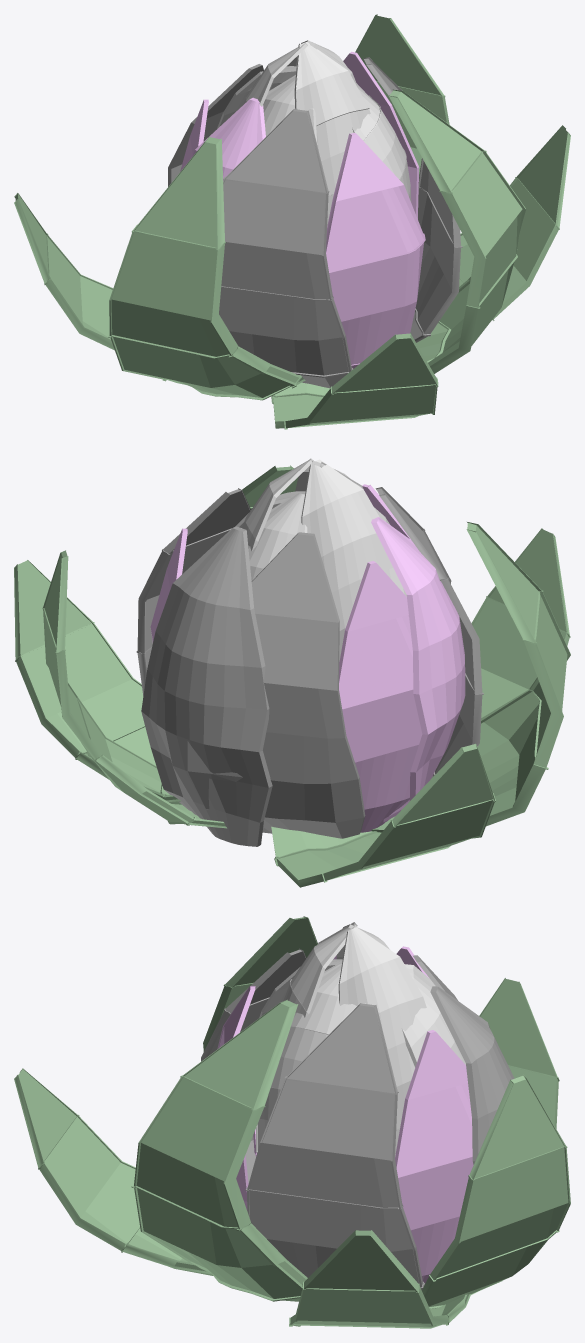
File: Kas_substance.fbx
The picture shows the model from 3 angles, top to bottom: view 1: azimuth 30°, elevation 25°; view 2: azimuth 150°, elevation 25°; view 3: azimuth 270°, elevation 25°; orthographic projection. The views are drawn at different scales.
Parts seen in each view (by area): view 1: pCube2, pCube20, pCube1, pCube15, pCube19, pCube21, pCube16, pCube9, pCube18, pCube17, pCube4 (×2), pCube5 (+5 smaller); view 2: pCube5 (×2), pCube6, pCube4 (×2), pCube20, pCube21, pCube18, pCube11, pCube17, pCube19, pCube16, pCube2, pCube12 (+3 smaller); view 3: pCube16, pCube15, pCube17, pCube4, pCube19, pCube21, pCube10, pCube5, pCube18, pCube14, pCube20, pCube2 (+4 smaller).
Boxes of the visible parts, left/top/right/bottom form: pCube2: left=219, top=109, right=352, bottom=388; pCube20: left=108, top=137, right=305, bottom=400; pCube1: left=326, top=132, right=425, bottom=368; pCube15: left=388, top=89, right=525, bottom=373; pCube19: left=271, top=333, right=438, bottom=429; pCube21: left=459, top=125, right=570, bottom=320; pCube16: left=363, top=57, right=462, bottom=342; pCube9: left=294, top=42, right=370, bottom=227; pCube18: left=14, top=193, right=114, bottom=350; pCube17: left=355, top=14, right=449, bottom=176; pCube4 (×2): left=180, top=51, right=419, bottom=219; pCube5: left=192, top=97, right=265, bottom=180; pCube5 (×2): left=141, top=517, right=465, bottom=846; pCube6: left=187, top=532, right=365, bottom=838; pCube4 (×2): left=150, top=528, right=422, bottom=832; pCube20: left=371, top=522, right=570, bottom=832; pCube21: left=14, top=560, right=181, bottom=804; pCube18: left=271, top=743, right=495, bottom=887; pCube11: left=301, top=459, right=404, bottom=661; pCube17: left=42, top=550, right=226, bottom=828; pCube19: left=471, top=528, right=570, bottom=717; pCube16: left=136, top=488, right=250, bottom=695; pCube2: left=375, top=487, right=483, bottom=778; pCube12: left=248, top=493, right=307, bottom=580; pCube16: left=245, top=1003, right=424, bottom=1290; pCube15: left=131, top=999, right=307, bottom=1301; pCube17: left=422, top=1075, right=570, bottom=1308; pCube4: left=395, top=1030, right=473, bottom=1283; pCube19: left=14, top=1068, right=212, bottom=1275; pCube21: left=289, top=1230, right=470, bottom=1328; pCube10: left=338, top=927, right=426, bottom=1156; pCube5: left=430, top=986, right=514, bottom=1164; pCube18: left=479, top=978, right=559, bottom=1128; pCube14: left=255, top=962, right=365, bottom=1152; pCube20: left=203, top=916, right=317, bottom=1051; pCube2: left=201, top=948, right=306, bottom=1182.
Size of the model in its own units: 32.49 by 20.57 by 29.78.
